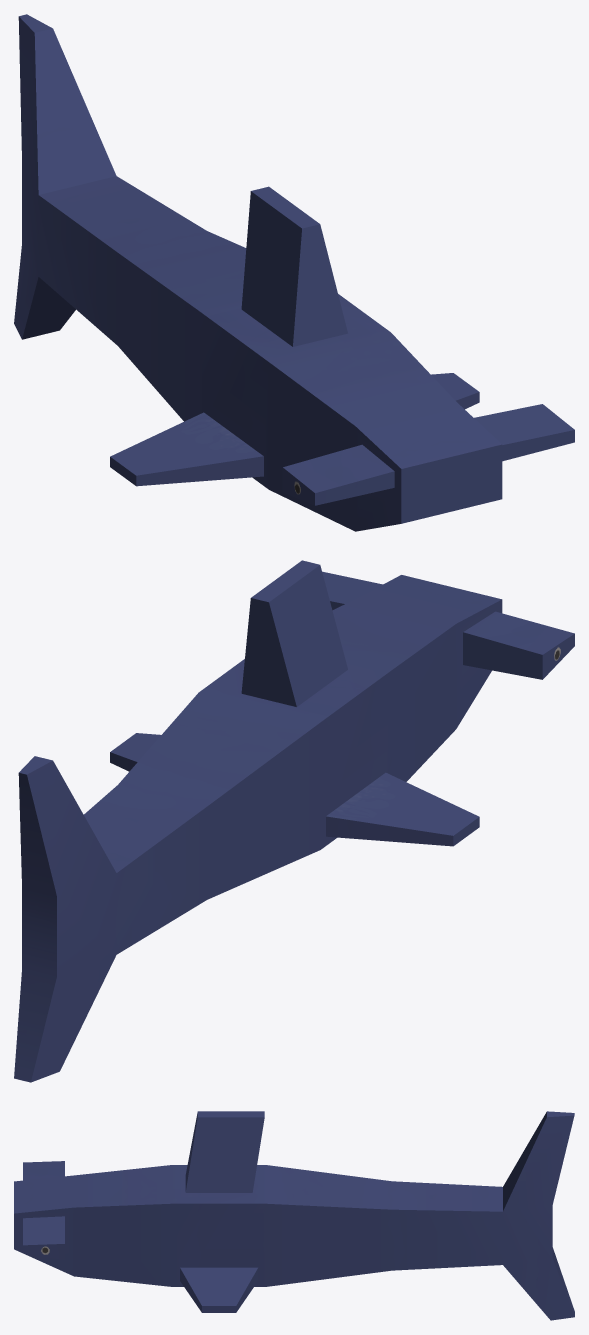
File: Shark2.fbx
The picture shows the model from 3 angles, top to bottom: view 1: azimuth 30°, elevation 25°; view 2: azimuth 150°, elevation 25°; view 3: azimuth 270°, elevation 25°; orthographic projection. The views are drawn at different scales.
Parts seen in each view (by area): view 1: Cube; view 2: Cube; view 3: Cube.
Part boxes in pixels (box(x1,y1,x2,y2)): Cube: box(14, 14, 574, 531); Cube: box(14, 560, 574, 1082); Cube: box(14, 1111, 574, 1320).
Size of the model in its own units: 1187 by 1013 by 2572.
1 material, 1 textured.
